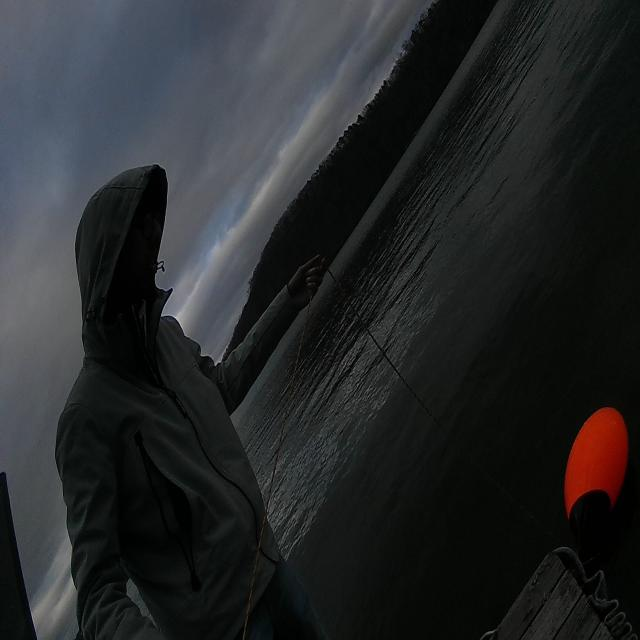Buoy: (559, 397, 631, 523)
